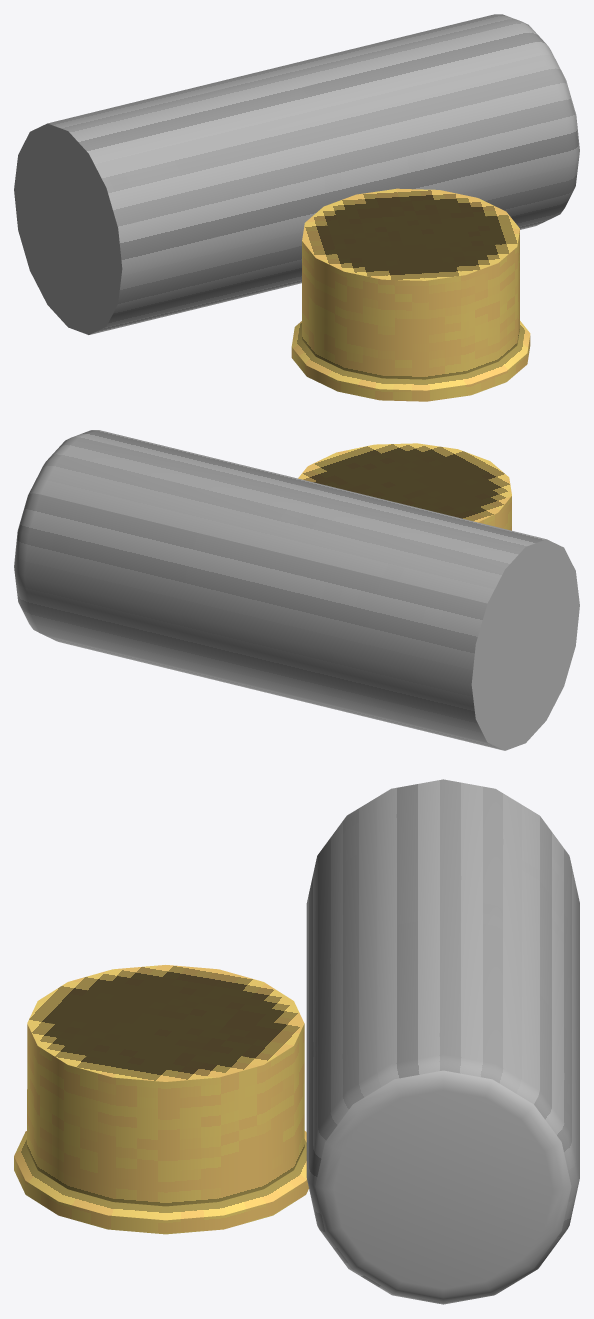
The model's file is ammomaker_HullShotgunS.fbx.
3 renders of one model, top to bottom at view 1: azimuth 30°, elevation 25°; view 2: azimuth 150°, elevation 25°; view 3: azimuth 270°, elevation 25°, orthographic. The views are drawn at different scales.
Visible parts, largest first — view 1: ammomaker_HullShotgunS; view 2: ammomaker_HullShotgunS; view 3: ammomaker_HullShotgunS.
Boxes of the visible parts, x1,y1,x2,y2 form: ammomaker_HullShotgunS: (14,14,579,401); ammomaker_HullShotgunS: (14,430,579,750); ammomaker_HullShotgunS: (14,779,579,1304).
Bounding box in the file's own units: 5.02 × 2.02 × 4.19.
